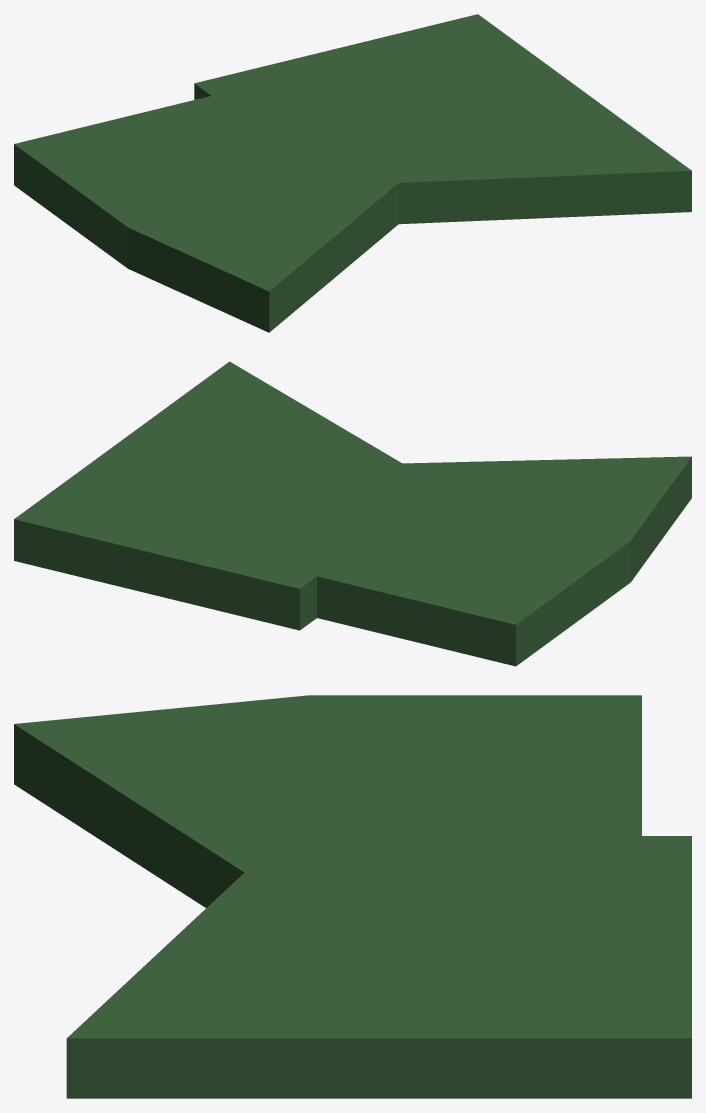
The model's file is x_proval_00_50_1_rmstrd.fbx.
3 views of the same model, one above another, from view 1: azimuth 30°, elevation 25°; view 2: azimuth 150°, elevation 25°; view 3: azimuth 270°, elevation 25° (orthographic). The views are drawn at different scales.
Parts seen in each view (by area): view 1: x_proval_00_50_1_rmstrd1; view 2: x_proval_00_50_1_rmstrd1; view 3: x_proval_00_50_1_rmstrd1.
Part boxes in pixels (<box>): x_proval_00_50_1_rmstrd1: <box>14,14,691,332</box>; x_proval_00_50_1_rmstrd1: <box>14,361,691,666</box>; x_proval_00_50_1_rmstrd1: <box>14,695,691,1098</box>.
Size of the model in its own units: 2.44 by 0.2 by 2.04.
